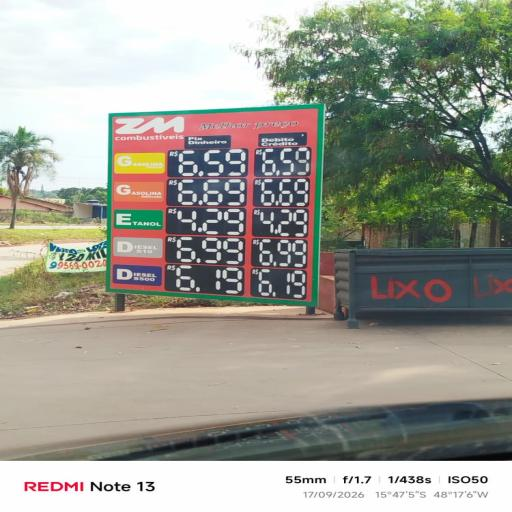ETANOL: (112, 210, 163, 230)
GASOLINA AD: (114, 182, 164, 202)
GASOLINA C: (114, 153, 166, 173)
S10: (111, 237, 163, 258)
S500: (112, 264, 163, 287)
placa: (109, 141, 254, 298)
preco: (173, 265, 245, 295), (174, 208, 248, 236), (174, 236, 248, 264), (174, 149, 250, 176), (174, 179, 247, 207)
